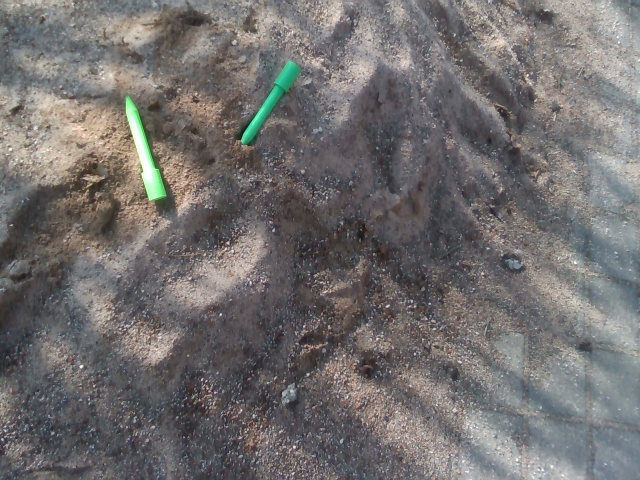Probe: (235, 56, 305, 153), (118, 90, 174, 207)
